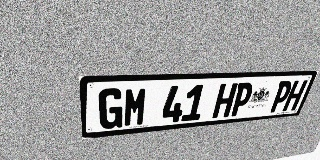1: (181, 84, 207, 121)
4: (161, 85, 187, 123)
G: (98, 88, 124, 130)
H: (212, 83, 238, 118), (282, 80, 308, 111)
M: (123, 87, 148, 127)
P: (229, 82, 255, 117), (268, 81, 294, 113)
